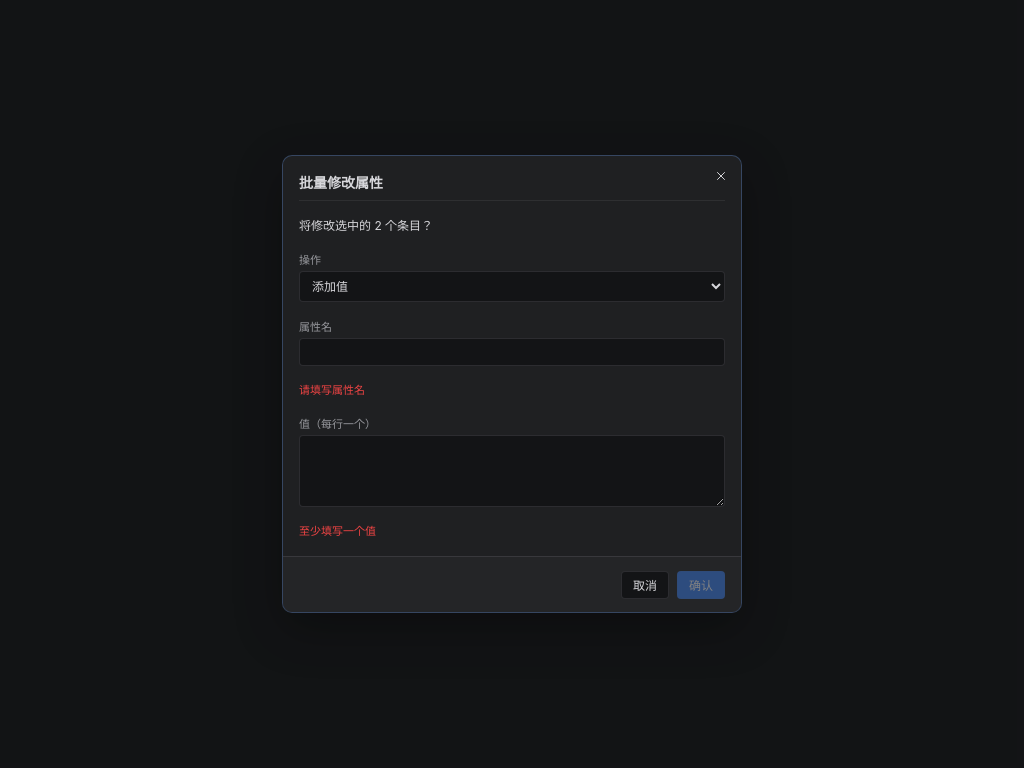
Scenario: BatchModifyDialog › requires at least one value for add/replace but not for delete
In the field with class "attribute-input": (512, 352) [299, 338, 725, 366], type "mail"
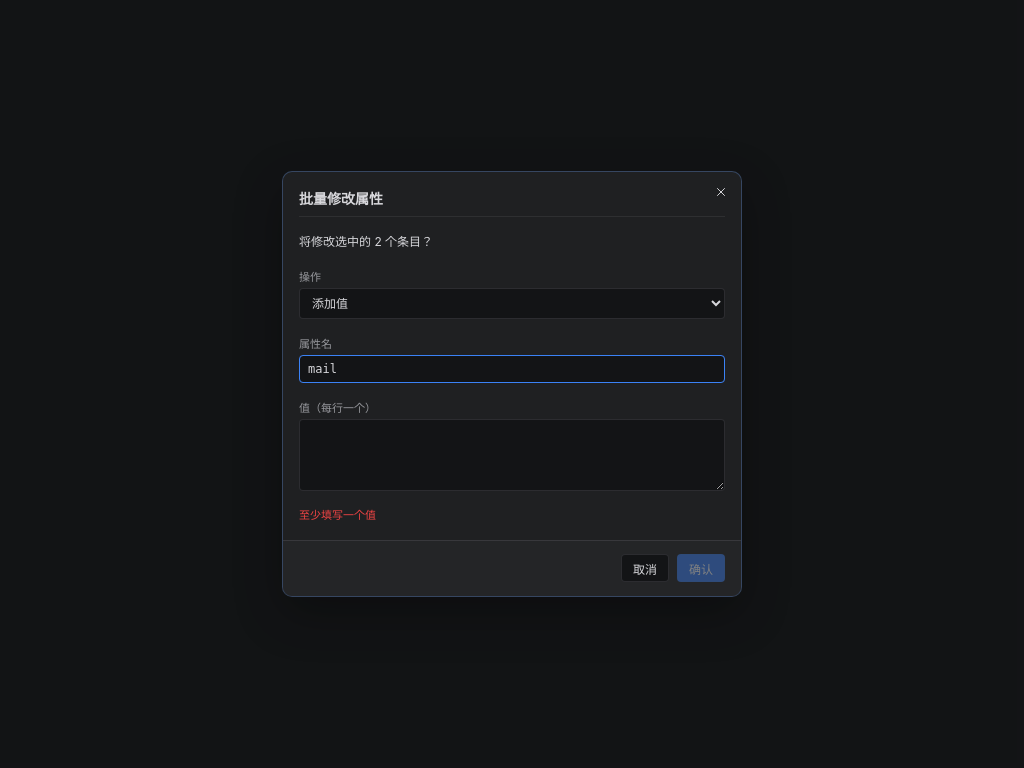
Expected: the text with class "form-error" reads "至少填写一个值", [299, 508, 376, 522]
Expected: the button "确认" is disabled, [677, 554, 725, 582]
Select "删除属性" in the dropdown with class "operation-select": (512, 303) [299, 288, 725, 319]
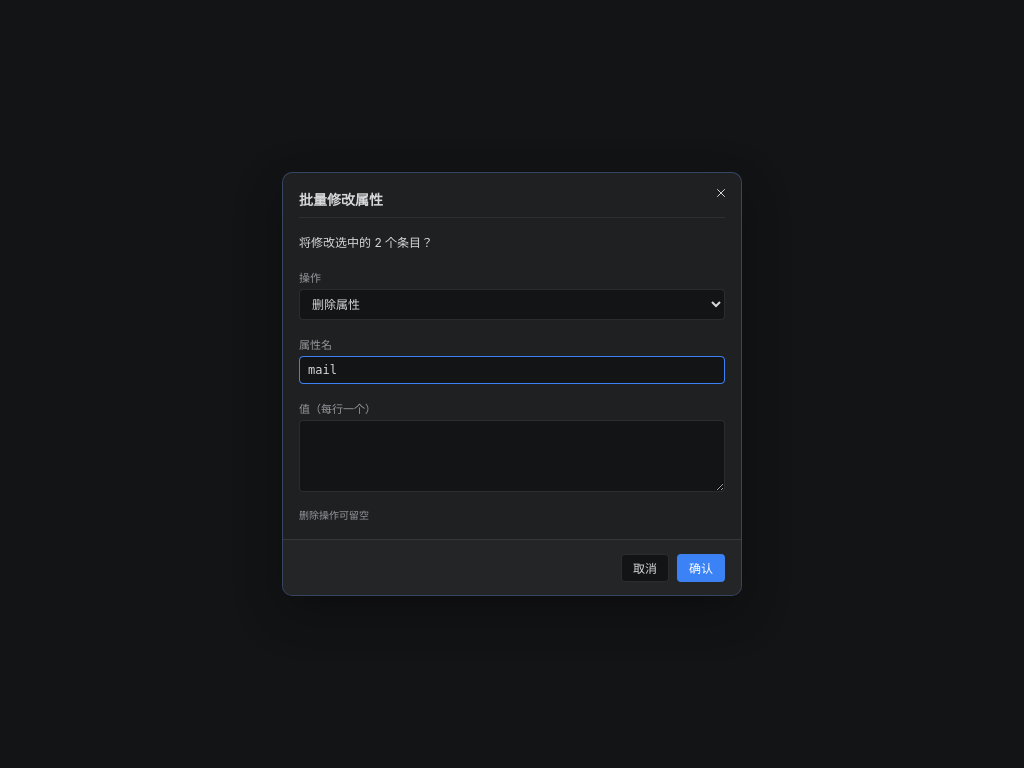
Result: the button "确认" is enabled at [677, 554, 725, 582]
Select "替换值" in the dropdown with class "operation-select": (512, 304) [299, 288, 725, 320]
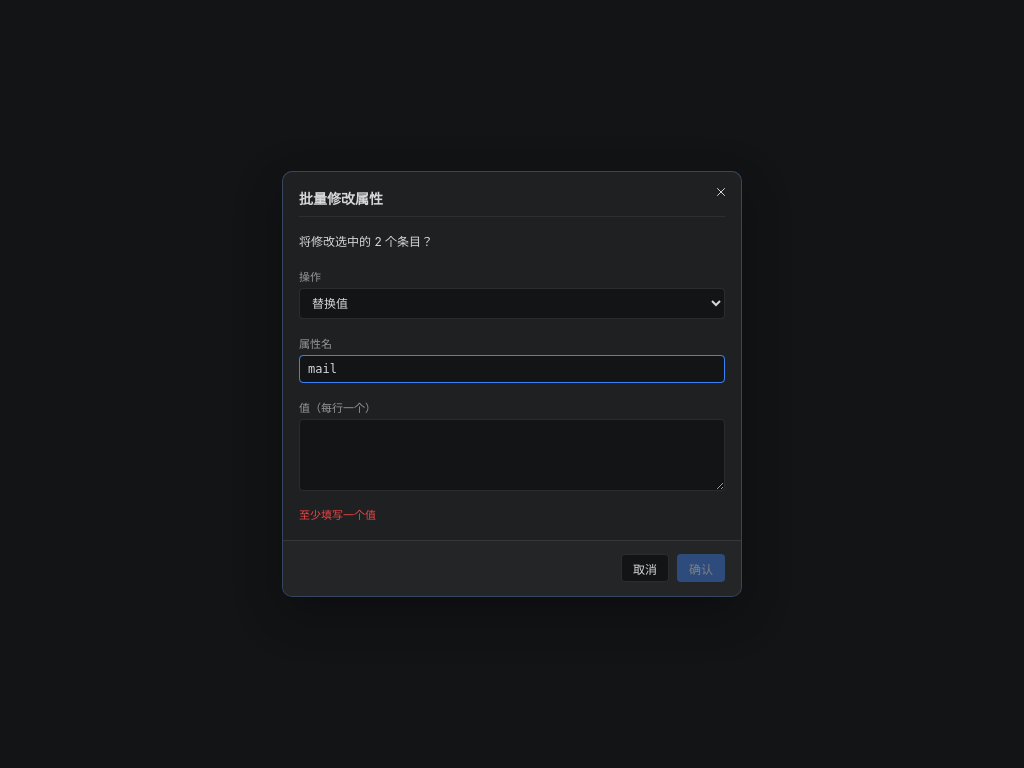
Result: the text with class "form-error" reads "至少填写一个值" at [299, 508, 376, 522]
Result: the button "确认" is disabled at [677, 554, 725, 582]
